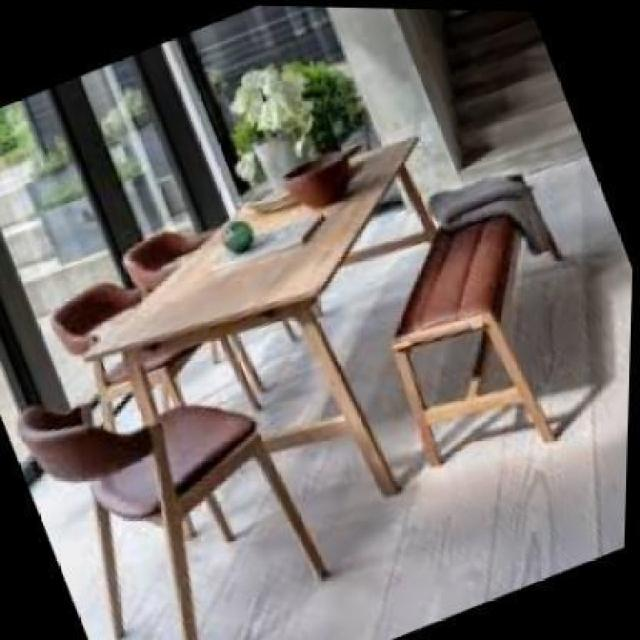tables: (82, 134, 436, 521)
